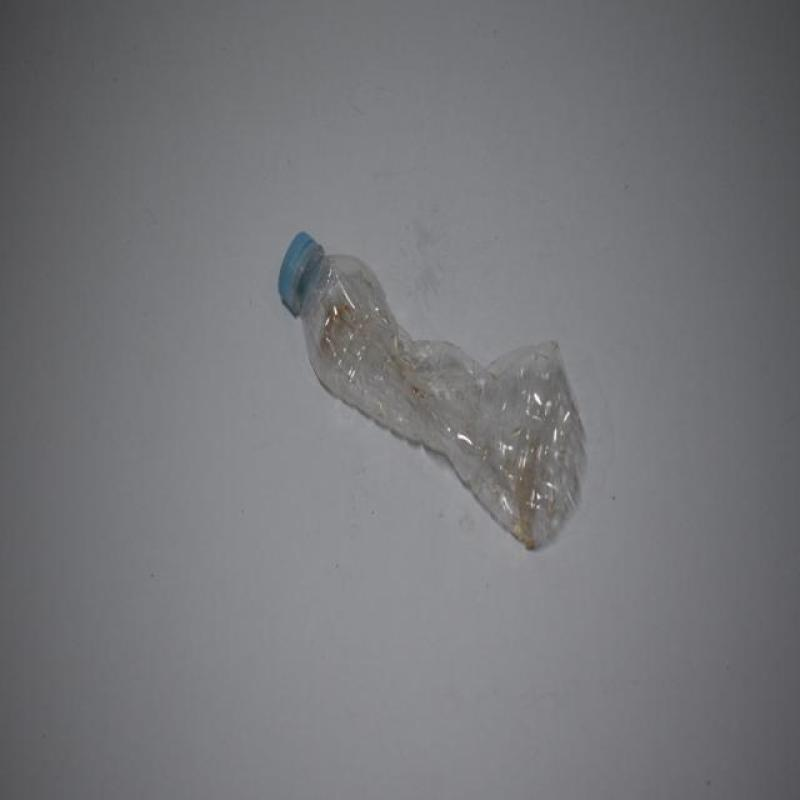botella: (278, 230, 588, 550)
